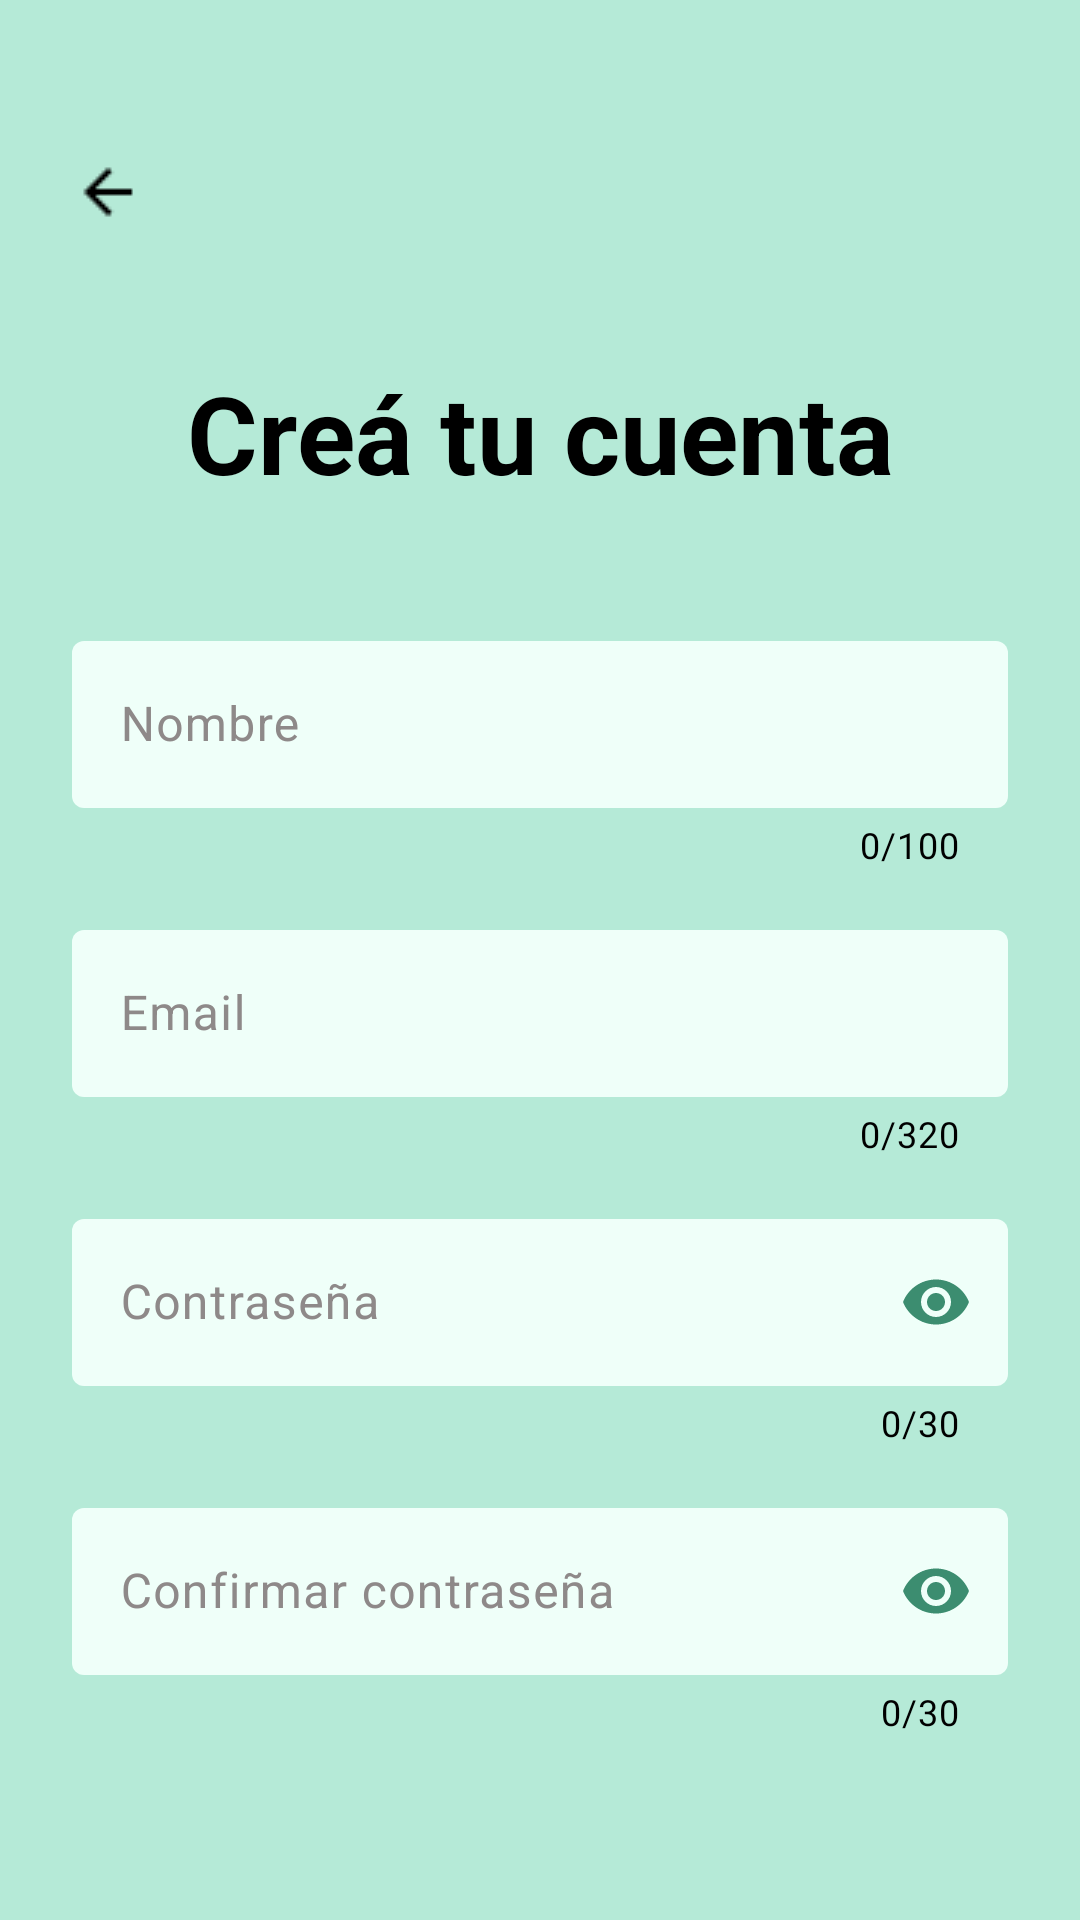

Where to tap for icons on this 1080*1920 app screen, as point (x, y):
volver: point (108, 192)
